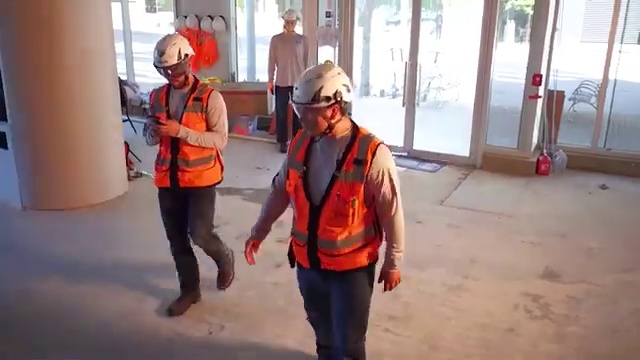helmet: (290, 60, 365, 111), (150, 32, 195, 69)
jacket: (283, 124, 391, 274), (143, 78, 232, 188)
